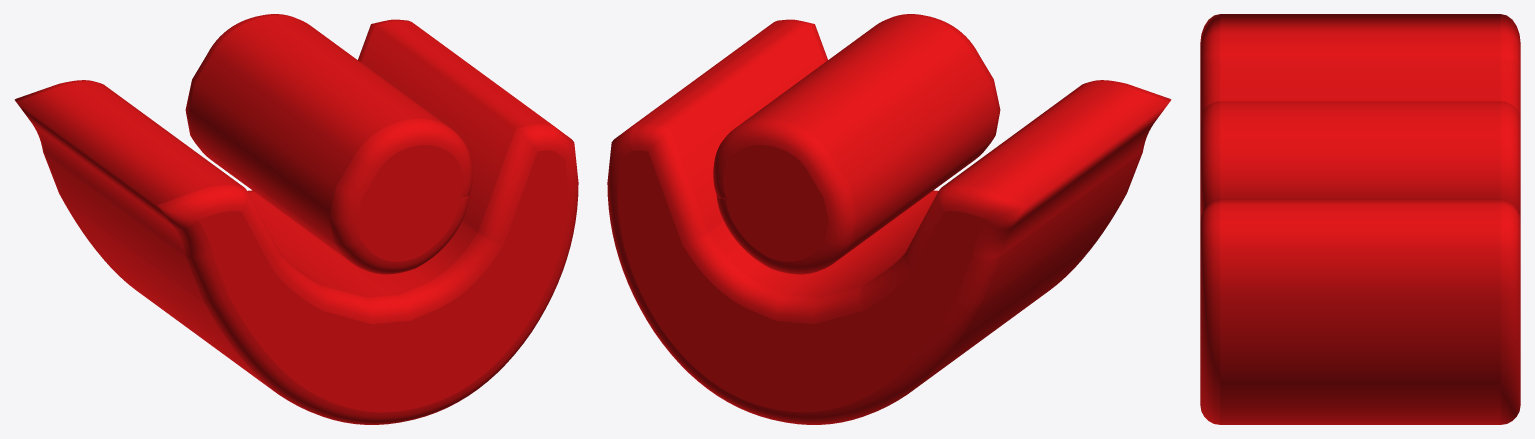
Rendered from bn_alphabet_39.fbx.
The picture shows the model from 3 angles, left to right: view 1: azimuth 30°, elevation 25°; view 2: azimuth 150°, elevation 25°; view 3: azimuth 270°, elevation 25°; orthographic projection.
Parts seen in each view (by area): view 1: Text; view 2: Text; view 3: Text.
Boxes of the visible parts, left/top/right/bottom form: Text: left=14, top=14, right=578, bottom=424; Text: left=607, top=14, right=1171, bottom=424; Text: left=1200, top=14, right=1520, bottom=424.
Size of the model in its own units: 157 by 107 by 105.
